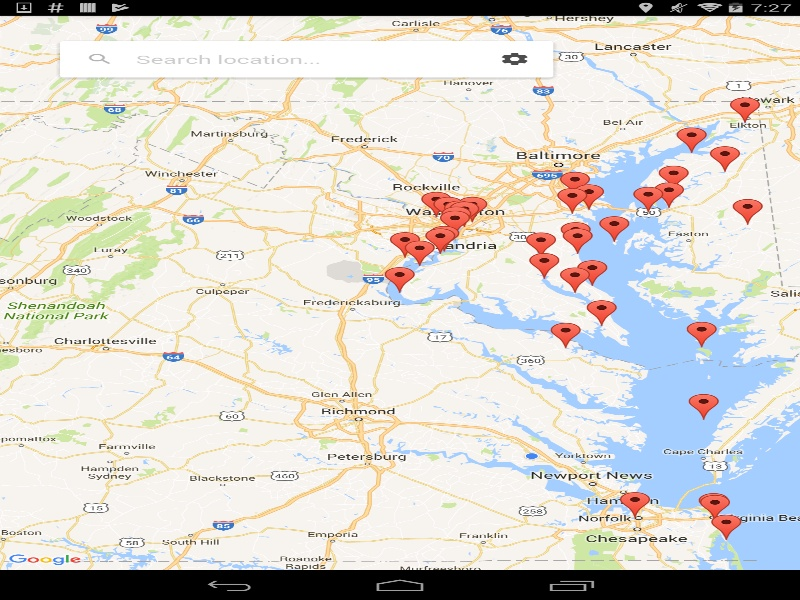Input: (136, 41, 477, 76)
